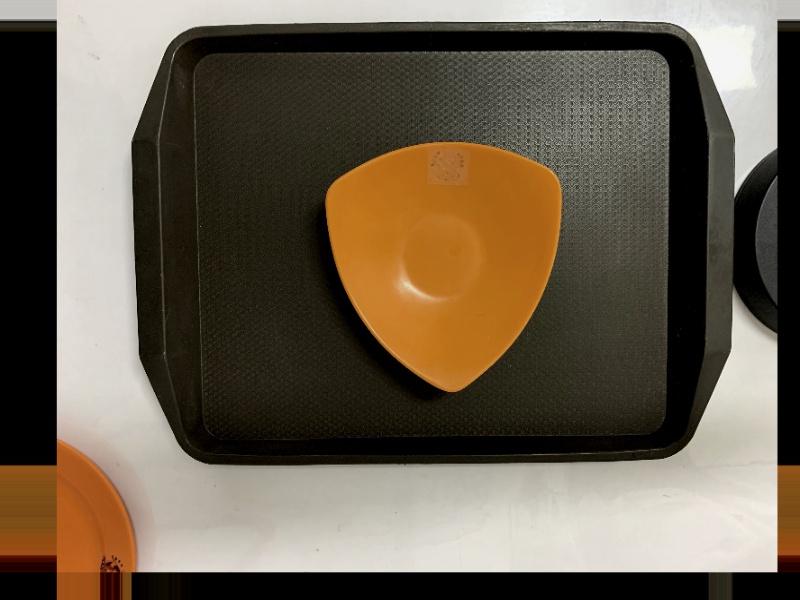dish11: (319, 135, 568, 399)
